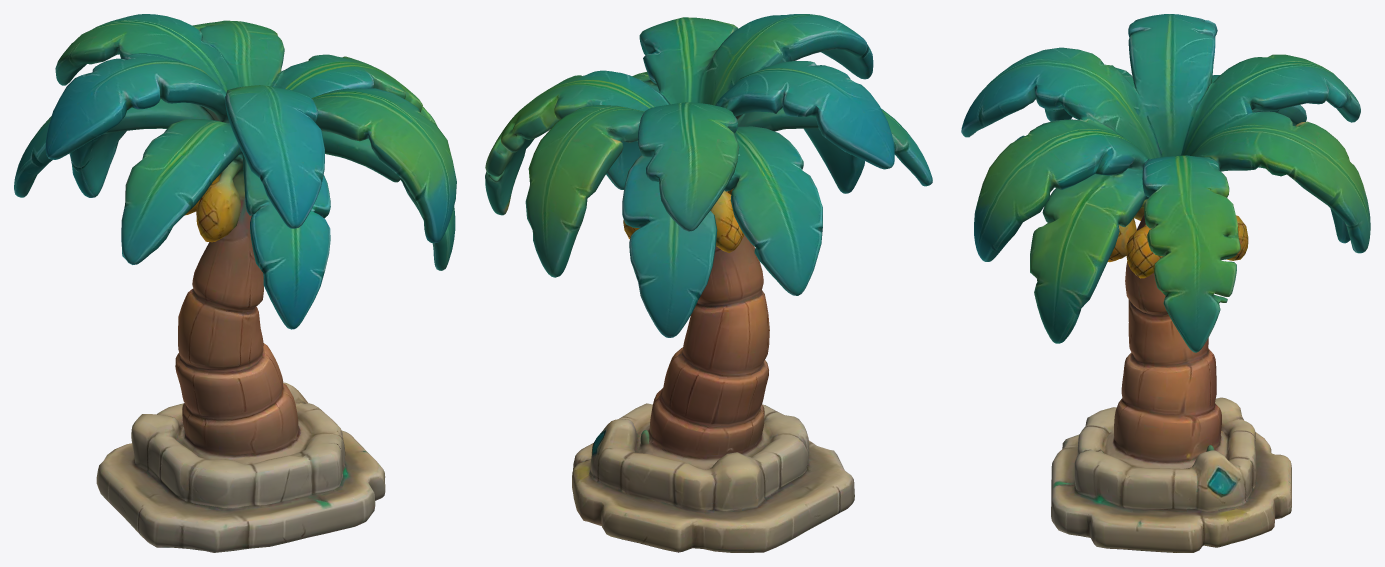
The model's file is 10-garden-palm.glb.
3 renders of one model, left to right at view 1: azimuth 30°, elevation 25°; view 2: azimuth 150°, elevation 25°; view 3: azimuth 270°, elevation 25°, orthographic. The views are drawn at different scales.
Parts seen in each view (by area): view 1: tripo_node_93c14a1c; view 2: tripo_node_93c14a1c; view 3: tripo_node_93c14a1c.
Part boxes in pixels (left/top/right/bottom): tripo_node_93c14a1c: left=14, top=14, right=456, bottom=552; tripo_node_93c14a1c: left=485, top=14, right=932, bottom=552; tripo_node_93c14a1c: left=961, top=14, right=1370, bottom=552.
Size of the model in its own units: 0.4507 by 0.5 by 0.4298.
Materials: 1 (1 with a texture image).
